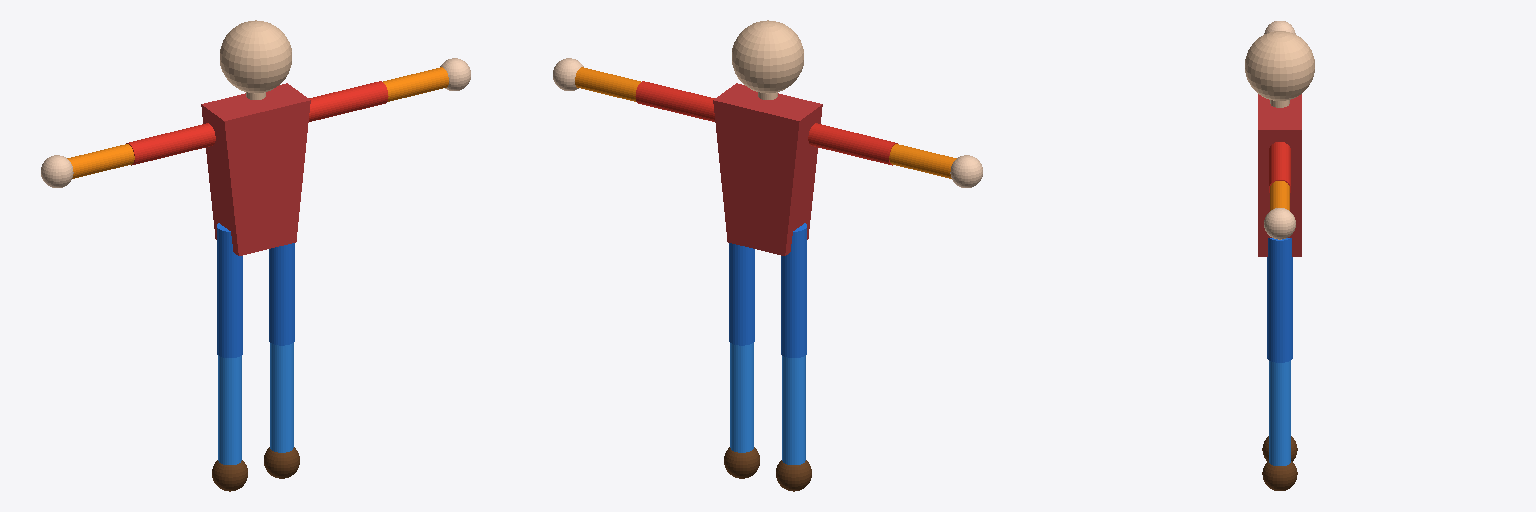
URDF robot description (humanoid_robot_mediapipe_v2):
<?xml version="1.0" ?>
<robot name="humanoid_robot_mediapipe_v2">
  <!-- 新的人型外观：球头、梯形躯干、圆柱四肢、球形手脚 -->

  <link name="base_link">
    <inertial>
      <origin xyz="0 0 0"/>
      <mass value="0.2"/>
      <inertia ixx="0.001" ixy="0" ixz="0" iyy="0.001" iyz="0" izz="0.001"/>
    </inertial>
  </link>

  <joint name="torso_bend" type="revolute">
    <parent link="base_link"/>
    <child link="torso_bend_link"/>
    <origin xyz="0 0 0" rpy="0 0 0"/>
    <axis xyz="1 0 0"/>
    <limit lower="-0.7" upper="0.7" effort="300" velocity="2.0"/>
  </joint>

  <link name="torso_bend_link">
    <inertial>
      <origin xyz="0 0 0"/>
      <mass value="0.1"/>
      <inertia ixx="0.0001" ixy="0" ixz="0" iyy="0.0001" iyz="0" izz="0.0001"/>
    </inertial>
  </link>

  <joint name="torso_twist" type="revolute">
    <parent link="torso_bend_link"/>
    <child link="torso_link"/>
    <origin xyz="0 0 0" rpy="0 0 0"/>
    <axis xyz="0 0 1"/>
    <limit lower="-1.2" upper="1.2" effort="300" velocity="2.0"/>
  </joint>

  <link name="torso_link">
    <inertial>
      <origin xyz="0 0 0"/>
      <mass value="5.0"/>
      <inertia ixx="0.08" ixy="0" ixz="0" iyy="0.08" iyz="0" izz="0.06"/>
    </inertial>
    <visual>
      <geometry>
        <mesh filename="trapezoid_torso.obj"/>
      </geometry>
      <material name="torso_red">
        <color rgba="0.78 0.28 0.28 1"/>
      </material>
    </visual>
    <collision>
      <geometry>
        <mesh filename="trapezoid_torso.obj"/>
      </geometry>
    </collision>
  </link>

  <joint name="neck_joint" type="fixed">
    <parent link="torso_link"/>
    <child link="neck_link"/>
    <origin xyz="0 0 0.25" rpy="0 0 0"/>
  </joint>

  <link name="neck_link">
    <inertial>
      <origin xyz="0 0 0.06"/>
      <mass value="0.25"/>
      <inertia ixx="0.0015" ixy="0" ixz="0" iyy="0.0015" iyz="0" izz="0.0015"/>
    </inertial>
    <visual>
      <geometry>
        <cylinder length="0.12" radius="0.03"/>
      </geometry>
      <origin xyz="0 0 0.06" rpy="0 0 0"/>
      <material name="skin_tone">
        <color rgba="0.93 0.79 0.67 1"/>
      </material>
    </visual>
    <collision>
      <geometry>
        <cylinder length="0.12" radius="0.03"/>
      </geometry>
      <origin xyz="0 0 0.06" rpy="0 0 0"/>
    </collision>
  </link>

  <joint name="head_joint" type="fixed">
    <parent link="neck_link"/>
    <child link="head_link"/>
    <origin xyz="0 0 0.13" rpy="0 0 0"/>
  </joint>

  <link name="head_link">
    <inertial>
      <origin xyz="0 0 0"/>
      <mass value="1.2"/>
      <inertia ixx="0.01" ixy="0" ixz="0" iyy="0.01" iyz="0" izz="0.01"/>
    </inertial>
    <visual>
      <geometry>
        <sphere radius="0.11"/>
      </geometry>
      <material name="skin_head">
        <color rgba="0.93 0.79 0.67 1"/>
      </material>
    </visual>
    <collision>
      <geometry>
        <sphere radius="0.11"/>
      </geometry>
    </collision>
  </link>

  <joint name="left_shoulder" type="revolute">
    <parent link="torso_link"/>
    <child link="left_shoulder_link"/>
    <origin xyz="-0.16 0 0.16" rpy="0 0 0"/>
    <axis xyz="0 1 0"/>
    <limit lower="-3.14159" upper="3.14159" effort="150" velocity="4.0"/>
  </joint>

  <link name="left_shoulder_link">
    <inertial>
      <origin xyz="-0.14 0 0"/>
      <mass value="0.8"/>
      <inertia ixx="0.004" ixy="0" ixz="0" iyy="0.004" iyz="0" izz="0.004"/>
    </inertial>
    <visual>
      <geometry>
        <cylinder length="0.28" radius="0.035"/>
      </geometry>
      <origin xyz="-0.14 0 0" rpy="0 1.5707 0"/>
      <material name="arm_red">
        <color rgba="0.9 0.25 0.2 1"/>
      </material>
    </visual>
    <collision>
      <geometry>
        <cylinder length="0.28" radius="0.035"/>
      </geometry>
      <origin xyz="-0.14 0 0" rpy="0 1.5707 0"/>
    </collision>
  </link>

  <joint name="left_elbow" type="revolute">
    <parent link="left_shoulder_link"/>
    <child link="left_forearm_link"/>
    <origin xyz="-0.28 0 0" rpy="0 0 0"/>
    <axis xyz="0 1 0"/>
    <limit lower="0" upper="3.14159" effort="150" velocity="4.0"/>
  </joint>

  <link name="left_forearm_link">
    <inertial>
      <origin xyz="-0.125 0 0"/>
      <mass value="0.6"/>
      <inertia ixx="0.003" ixy="0" ixz="0" iyy="0.003" iyz="0" izz="0.003"/>
    </inertial>
    <visual>
      <geometry>
        <cylinder length="0.25" radius="0.032"/>
      </geometry>
      <origin xyz="-0.125 0 0" rpy="0 1.5707 0"/>
      <material name="arm_orange">
        <color rgba="0.98 0.57 0.12 1"/>
      </material>
    </visual>
    <collision>
      <geometry>
        <cylinder length="0.25" radius="0.032"/>
      </geometry>
      <origin xyz="-0.125 0 0" rpy="0 1.5707 0"/>
    </collision>
  </link>

  <joint name="left_hand_joint" type="fixed">
    <parent link="left_forearm_link"/>
    <child link="left_hand_link"/>
    <origin xyz="-0.25 0 0" rpy="0 0 0"/>
  </joint>

  <link name="left_hand_link">
    <inertial>
      <origin xyz="0 0 0"/>
      <mass value="0.15"/>
      <inertia ixx="0.0003" ixy="0" ixz="0" iyy="0.0003" iyz="0" izz="0.0003"/>
    </inertial>
    <visual>
      <geometry>
        <sphere radius="0.05"/>
      </geometry>
      <material name="hand_sphere">
        <color rgba="0.95 0.82 0.72 1"/>
      </material>
    </visual>
    <collision>
      <geometry>
        <sphere radius="0.05"/>
      </geometry>
    </collision>
  </link>

  <joint name="right_shoulder" type="revolute">
    <parent link="torso_link"/>
    <child link="right_shoulder_link"/>
    <origin xyz="0.16 0 0.16" rpy="0 0 0"/>
    <axis xyz="0 1 0"/>
    <limit lower="-3.14159" upper="3.14159" effort="150" velocity="4.0"/>
  </joint>

  <link name="right_shoulder_link">
    <inertial>
      <origin xyz="0.14 0 0"/>
      <mass value="0.8"/>
      <inertia ixx="0.004" ixy="0" ixz="0" iyy="0.004" iyz="0" izz="0.004"/>
    </inertial>
    <visual>
      <geometry>
        <cylinder length="0.28" radius="0.035"/>
      </geometry>
      <origin xyz="0.14 0 0" rpy="0 1.5707 0"/>
      <material name="arm_red">
        <color rgba="0.9 0.25 0.2 1"/>
      </material>
    </visual>
    <collision>
      <geometry>
        <cylinder length="0.28" radius="0.035"/>
      </geometry>
      <origin xyz="0.14 0 0" rpy="0 1.5707 0"/>
    </collision>
  </link>

  <joint name="right_elbow" type="revolute">
    <parent link="right_shoulder_link"/>
    <child link="right_forearm_link"/>
    <origin xyz="0.28 0 0" rpy="0 0 0"/>
    <axis xyz="0 1 0"/>
    <limit lower="0" upper="3.14159" effort="150" velocity="4.0"/>
  </joint>

  <link name="right_forearm_link">
    <inertial>
      <origin xyz="0.125 0 0"/>
      <mass value="0.6"/>
      <inertia ixx="0.003" ixy="0" ixz="0" iyy="0.003" iyz="0" izz="0.003"/>
    </inertial>
    <visual>
      <geometry>
        <cylinder length="0.25" radius="0.032"/>
      </geometry>
      <origin xyz="0.125 0 0" rpy="0 1.5707 0"/>
      <material name="arm_orange">
        <color rgba="0.98 0.57 0.12 1"/>
      </material>
    </visual>
    <collision>
      <geometry>
        <cylinder length="0.25" radius="0.032"/>
      </geometry>
      <origin xyz="0.125 0 0" rpy="0 1.5707 0"/>
    </collision>
  </link>

  <joint name="right_hand_joint" type="fixed">
    <parent link="right_forearm_link"/>
    <child link="right_hand_link"/>
    <origin xyz="0.25 0 0" rpy="0 0 0"/>
  </joint>

  <link name="right_hand_link">
    <inertial>
      <origin xyz="0 0 0"/>
      <mass value="0.15"/>
      <inertia ixx="0.0003" ixy="0" ixz="0" iyy="0.0003" iyz="0" izz="0.0003"/>
    </inertial>
    <visual>
      <geometry>
        <sphere radius="0.05"/>
      </geometry>
      <material name="hand_sphere">
        <color rgba="0.95 0.82 0.72 1"/>
      </material>
    </visual>
    <collision>
      <geometry>
        <sphere radius="0.05"/>
      </geometry>
    </collision>
  </link>

  <joint name="left_hip" type="revolute">
    <parent link="torso_link"/>
    <child link="left_thigh_link"/>
    <origin xyz="-0.09 0 -0.16" rpy="0 0 0"/>
    <axis xyz="0 1 0"/>
    <limit lower="-3.14159" upper="3.14159" effort="200" velocity="3.0"/>
  </joint>

  <link name="left_thigh_link">
    <inertial>
      <origin xyz="0 0 -0.21"/>
      <mass value="0.9"/>
      <inertia ixx="0.006" ixy="0" ixz="0" iyy="0.006" iyz="0" izz="0.004"/>
    </inertial>
    <visual>
      <geometry>
        <cylinder length="0.42" radius="0.04"/>
      </geometry>
      <origin xyz="0 0 -0.21" rpy="0 0 0"/>
      <material name="leg_blue">
        <color rgba="0.2 0.5 0.9 1"/>
      </material>
    </visual>
    <collision>
      <geometry>
        <cylinder length="0.42" radius="0.04"/>
      </geometry>
      <origin xyz="0 0 -0.21" rpy="0 0 0"/>
    </collision>
  </link>

  <joint name="left_knee" type="revolute">
    <parent link="left_thigh_link"/>
    <child link="left_shin_link"/>
    <origin xyz="0 0 -0.42" rpy="0 0 0"/>
    <axis xyz="0 1 0"/>
    <limit lower="0" upper="3.14159" effort="200" velocity="3.0"/>
  </joint>

  <link name="left_shin_link">
    <inertial>
      <origin xyz="0 0 -0.20"/>
      <mass value="0.75"/>
      <inertia ixx="0.005" ixy="0" ixz="0" iyy="0.005" iyz="0" izz="0.004"/>
    </inertial>
    <visual>
      <geometry>
        <cylinder length="0.40" radius="0.035"/>
      </geometry>
      <origin xyz="0 0 -0.20" rpy="0 0 0"/>
      <material name="leg_cyan">
        <color rgba="0.26 0.62 0.98 1"/>
      </material>
    </visual>
    <collision>
      <geometry>
        <cylinder length="0.40" radius="0.035"/>
      </geometry>
      <origin xyz="0 0 -0.20" rpy="0 0 0"/>
    </collision>
  </link>

  <joint name="left_foot_joint" type="fixed">
    <parent link="left_shin_link"/>
    <child link="left_foot_link"/>
    <origin xyz="0 0 -0.40" rpy="0 0 0"/>
  </joint>

  <link name="left_foot_link">
    <inertial>
      <origin xyz="0 0 0"/>
      <mass value="0.12"/>
      <inertia ixx="0.0004" ixy="0" ixz="0" iyy="0.0004" iyz="0" izz="0.0004"/>
    </inertial>
    <visual>
      <geometry>
        <sphere radius="0.055"/>
      </geometry>
      <material name="foot_brown">
        <color rgba="0.45 0.30 0.18 1"/>
      </material>
    </visual>
    <collision>
      <geometry>
        <sphere radius="0.055"/>
      </geometry>
    </collision>
  </link>

  <joint name="right_hip" type="revolute">
    <parent link="torso_link"/>
    <child link="right_thigh_link"/>
    <origin xyz="0.09 0 -0.16" rpy="0 0 0"/>
    <axis xyz="0 1 0"/>
    <limit lower="-3.14159" upper="3.14159" effort="200" velocity="3.0"/>
  </joint>

  <link name="right_thigh_link">
    <inertial>
      <origin xyz="0 0 -0.21"/>
      <mass value="0.9"/>
      <inertia ixx="0.006" ixy="0" ixz="0" iyy="0.006" iyz="0" izz="0.004"/>
    </inertial>
    <visual>
      <geometry>
        <cylinder length="0.42" radius="0.04"/>
      </geometry>
      <origin xyz="0 0 -0.21" rpy="0 0 0"/>
      <material name="leg_blue">
        <color rgba="0.2 0.5 0.9 1"/>
      </material>
    </visual>
    <collision>
      <geometry>
        <cylinder length="0.42" radius="0.04"/>
      </geometry>
      <origin xyz="0 0 -0.21" rpy="0 0 0"/>
    </collision>
  </link>

  <joint name="right_knee" type="revolute">
    <parent link="right_thigh_link"/>
    <child link="right_shin_link"/>
    <origin xyz="0 0 -0.42" rpy="0 0 0"/>
    <axis xyz="0 1 0"/>
    <limit lower="0" upper="3.14159" effort="200" velocity="3.0"/>
  </joint>

  <link name="right_shin_link">
    <inertial>
      <origin xyz="0 0 -0.20"/>
      <mass value="0.75"/>
      <inertia ixx="0.005" ixy="0" ixz="0" iyy="0.005" iyz="0" izz="0.004"/>
    </inertial>
    <visual>
      <geometry>
        <cylinder length="0.40" radius="0.035"/>
      </geometry>
      <origin xyz="0 0 -0.20" rpy="0 0 0"/>
      <material name="leg_cyan">
        <color rgba="0.26 0.62 0.98 1"/>
      </material>
    </visual>
    <collision>
      <geometry>
        <cylinder length="0.40" radius="0.035"/>
      </geometry>
      <origin xyz="0 0 -0.20" rpy="0 0 0"/>
    </collision>
  </link>

  <joint name="right_foot_joint" type="fixed">
    <parent link="right_shin_link"/>
    <child link="right_foot_link"/>
    <origin xyz="0 0 -0.40" rpy="0 0 0"/>
  </joint>

  <link name="right_foot_link">
    <inertial>
      <origin xyz="0 0 0"/>
      <mass value="0.12"/>
      <inertia ixx="0.0004" ixy="0" ixz="0" iyy="0.0004" iyz="0" izz="0.0004"/>
    </inertial>
    <visual>
      <geometry>
        <sphere radius="0.055"/>
      </geometry>
      <material name="foot_brown">
        <color rgba="0.45 0.30 0.18 1"/>
      </material>
    </visual>
    <collision>
      <geometry>
        <sphere radius="0.055"/>
      </geometry>
    </collision>
  </link>
</robot>

--- Facts derived from the render (not from the file) ---
Views: 3 orthographic renders of the robot side by side, from view 1: azimuth 30°, elevation 25°; view 2: azimuth 150°, elevation 25°; view 3: azimuth 270°, elevation 25°.
Model humanoid_robot_mediapipe_v2 with 17 links and 16 joints (10 revolute, 6 fixed), rooted at base_link, posed all joints at 0.
Visible links, largest first — view 1: torso_link, head_link, left_thigh_link, right_shin_link, right_thigh_link, left_shin_link, left_shoulder_link, right_shoulder_link, left_forearm_link, right_forearm_link, left_hand_link, left_foot_link (+2 smaller); view 2: torso_link, head_link, left_thigh_link, right_shin_link, right_thigh_link, left_shin_link, left_shoulder_link, right_shoulder_link, left_forearm_link, right_forearm_link, left_hand_link, left_foot_link (+2 smaller); view 3: torso_link, head_link, right_thigh_link, right_shin_link, right_shoulder_link, right_hand_link, right_foot_link, right_forearm_link.
Link boxes in pixels (<box>): torso_link: <box>201,83,310,255</box>; head_link: <box>220,20,291,93</box>; left_thigh_link: <box>217,223,242,357</box>; right_shin_link: <box>270,343,293,452</box>; right_thigh_link: <box>269,243,294,345</box>; left_shin_link: <box>218,355,241,464</box>; left_shoulder_link: <box>126,123,215,165</box>; right_shoulder_link: <box>309,81,388,121</box>; left_forearm_link: <box>67,144,134,178</box>; right_forearm_link: <box>383,67,448,101</box>; left_hand_link: <box>41,155,73,187</box>; left_foot_link: <box>212,460,247,491</box>; torso_link: <box>713,83,822,255</box>; head_link: <box>732,20,803,93</box>; left_thigh_link: <box>781,223,806,357</box>; right_shin_link: <box>730,343,753,452</box>; right_thigh_link: <box>729,243,754,345</box>; left_shin_link: <box>782,355,805,464</box>; left_shoulder_link: <box>808,123,897,165</box>; right_shoulder_link: <box>635,81,714,121</box>; left_forearm_link: <box>889,144,956,178</box>; right_forearm_link: <box>575,67,640,101</box>; left_hand_link: <box>950,155,982,187</box>; left_foot_link: <box>776,460,811,491</box>; torso_link: <box>1258,94,1301,256</box>; head_link: <box>1245,31,1314,100</box>; right_thigh_link: <box>1267,238,1292,362</box>; right_shin_link: <box>1269,361,1290,465</box>; right_shoulder_link: <box>1269,142,1290,192</box>; right_hand_link: <box>1264,208,1295,239</box>; right_foot_link: <box>1262,461,1297,490</box>; right_forearm_link: <box>1270,181,1289,210</box>.
Bounding box of the posed robot: 1.48 × 0.22 × 1.52 m (x, y, z).
1 mesh visuals loaded from 1 distinct referenced files (1 OBJ).
